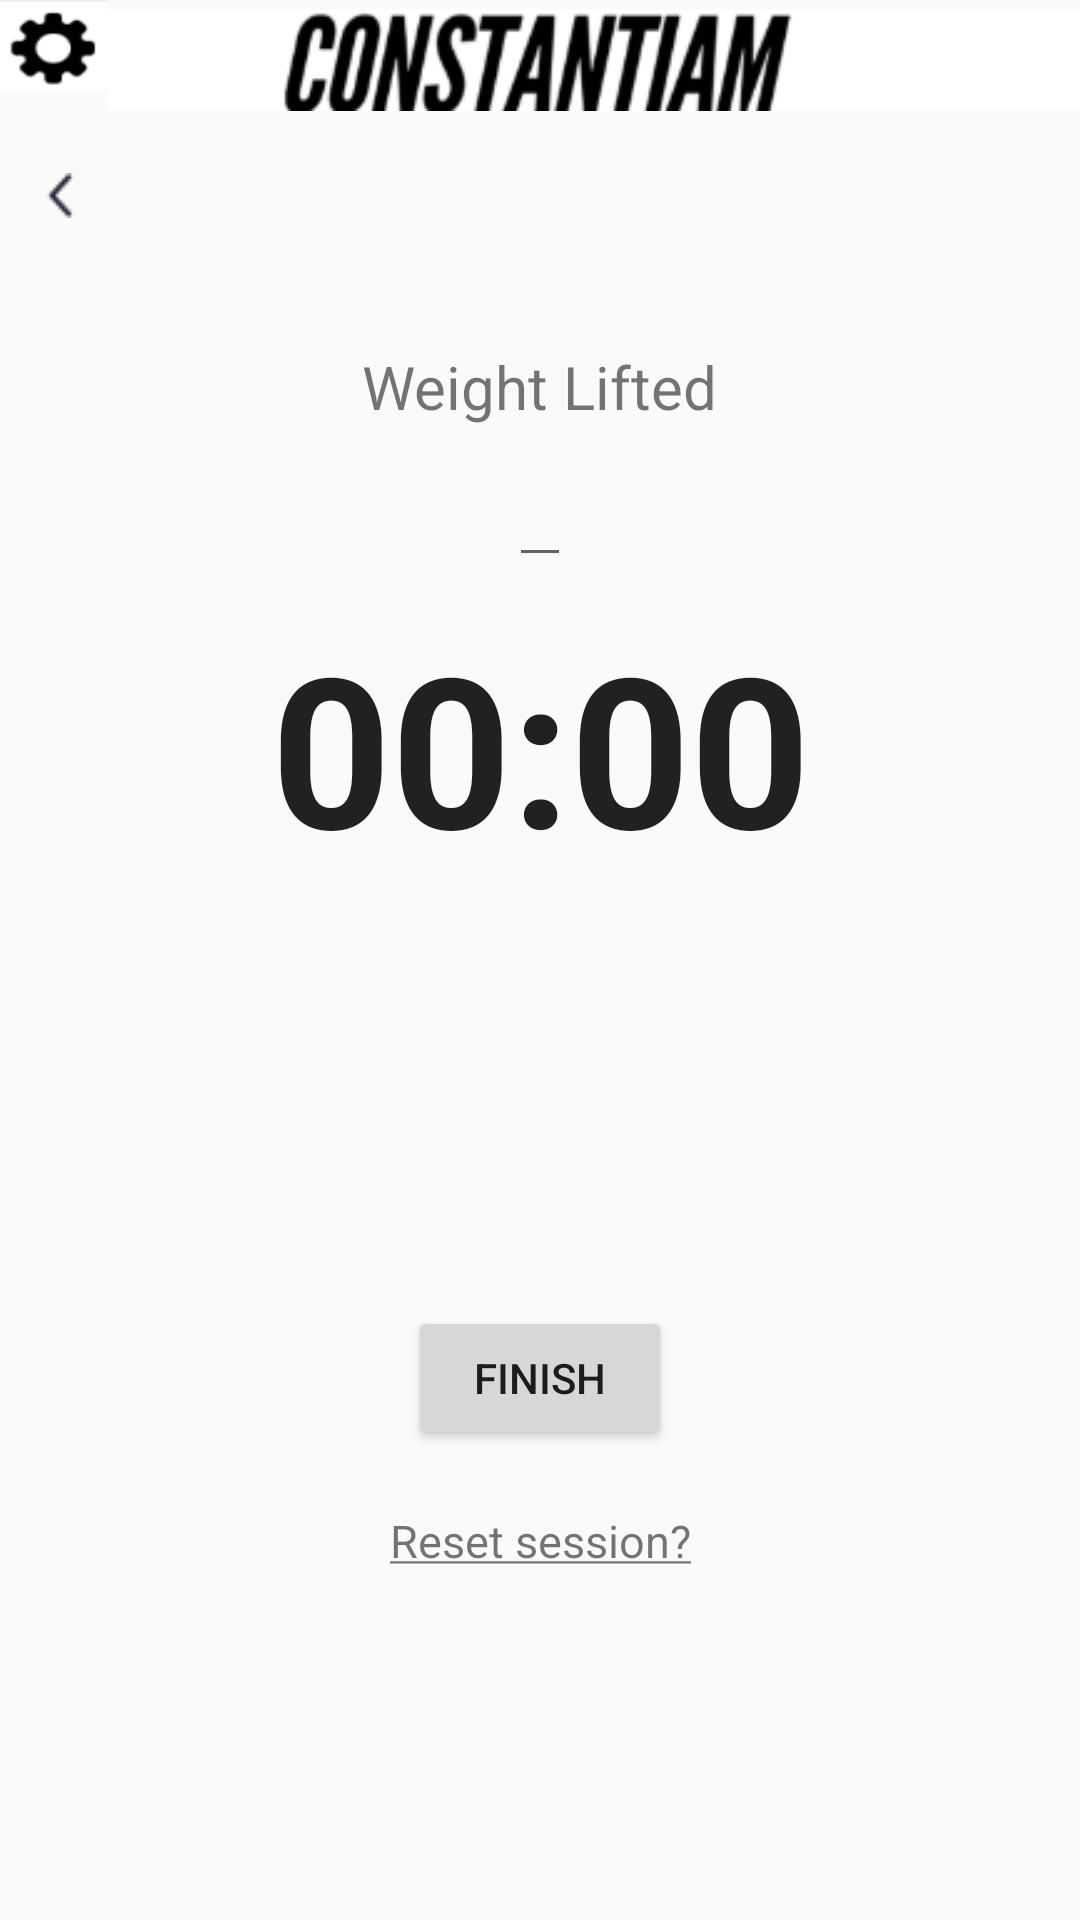

Where to tap for icons on this 1080px×1920px app screen, as point (x, y):
back: point (59, 195)
settings: point (53, 48)
